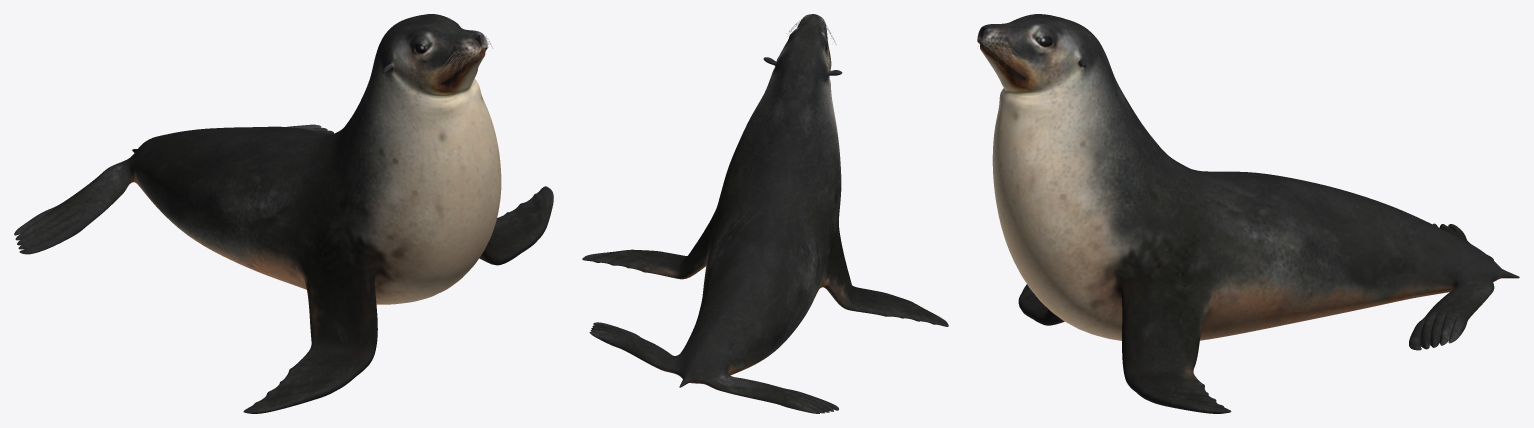
Rendered from Sealion.fbx.
3 renders of one model, left to right at view 1: azimuth 30°, elevation 25°; view 2: azimuth 150°, elevation 25°; view 3: azimuth 270°, elevation 25°, orthographic. The views are drawn at different scales.
Parts seen in each view (by area): view 1: 10041_sealion_v1_L3; view 2: 10041_sealion_v1_L3; view 3: 10041_sealion_v1_L3.
Boxes of the visible parts, x1,y1,x2,y2 form: 10041_sealion_v1_L3: (14, 14, 553, 413); 10041_sealion_v1_L3: (582, 14, 948, 413); 10041_sealion_v1_L3: (977, 14, 1519, 413).
Size of the model in its own units: 10395 by 7972 by 11010.
